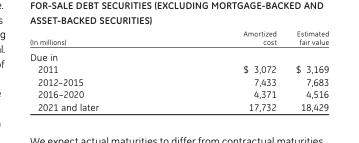table: (29, 28, 328, 111)
table column: (29, 28, 170, 111), (170, 28, 285, 111), (285, 28, 328, 111)
table column header: (29, 28, 328, 48)
table projected row header: (29, 48, 328, 62)
table row: (29, 28, 328, 48), (29, 48, 328, 62), (29, 62, 328, 75), (29, 87, 328, 100), (29, 75, 328, 87), (29, 100, 328, 111)
